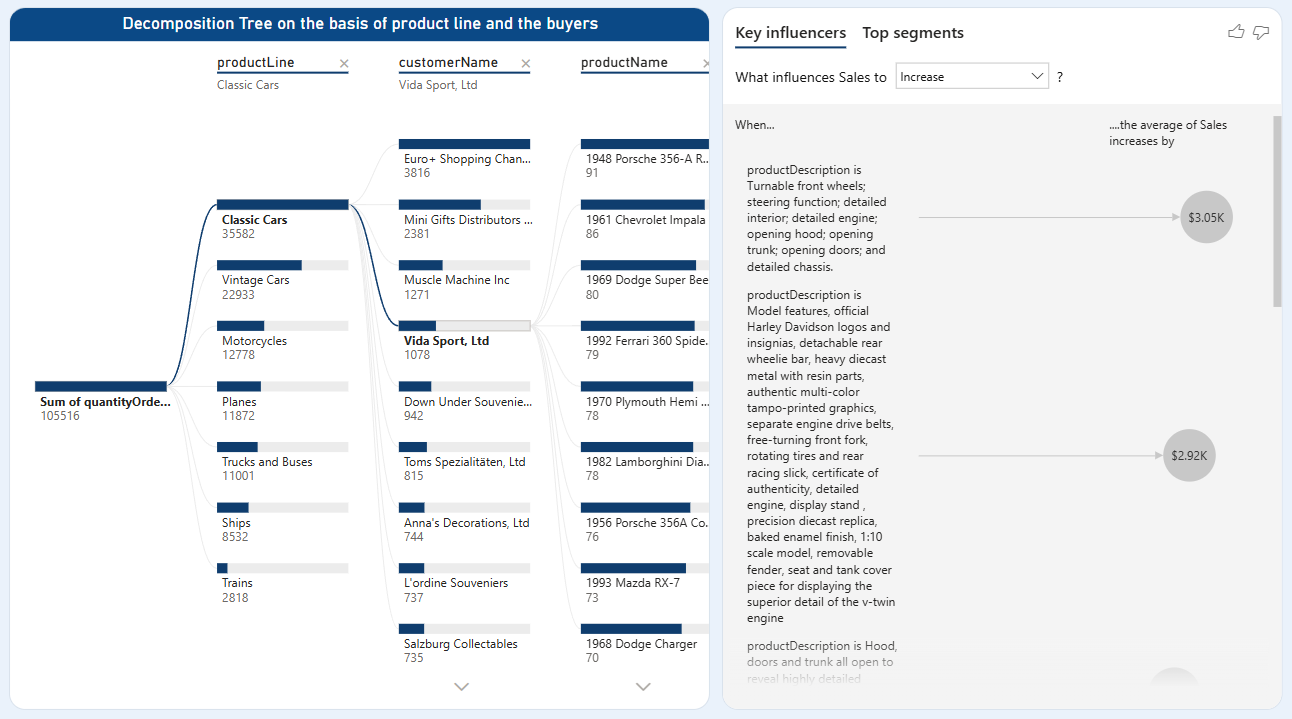

The dashboard page shown, as its layout file describes it:
{"tool":"powerbi","page":{"name":"AI VISUALS","canvas":[1280,720],"ordinal":2},"visuals":[{"type":"decompositionTreeVisual","title":"Decomposition Tree on the basis of product line and the buyers","fields":{"ExplainBy":["Products.productLine","Customer name.customerName","Products.productName"],"Analyze":["Sum(order details.quantityOrdered)"]},"box":[9.1,11.8,693.6,696.4],"z":0},{"type":"keyDriversVisual","fields":{"Target":["order details.Sales"],"ExplainBy":["Products.productDescription"]},"box":[714.5,11.8,554.5,696.4],"z":1000}]}

Visuals, with their boxes in screenshot pixels (x1, y1, x2, y2), scaled from the page's 1280x720 canvas onto the 1292x719 screenshot:
"Decomposition Tree on the basis of product line and the buyers" decompositionTreeVisual: crop(9, 12, 709, 707)
keyDriversVisual - order details.Sales x Products.productDescription: crop(721, 12, 1281, 707)
